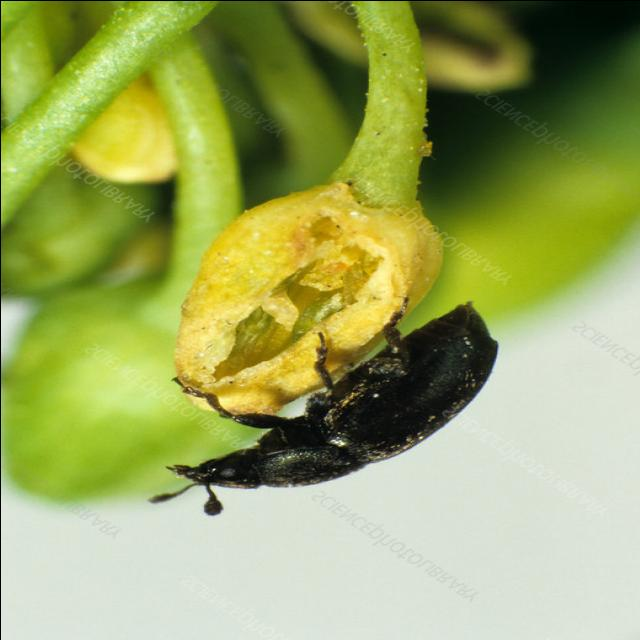pollen_beetle: (133, 288, 508, 526)
